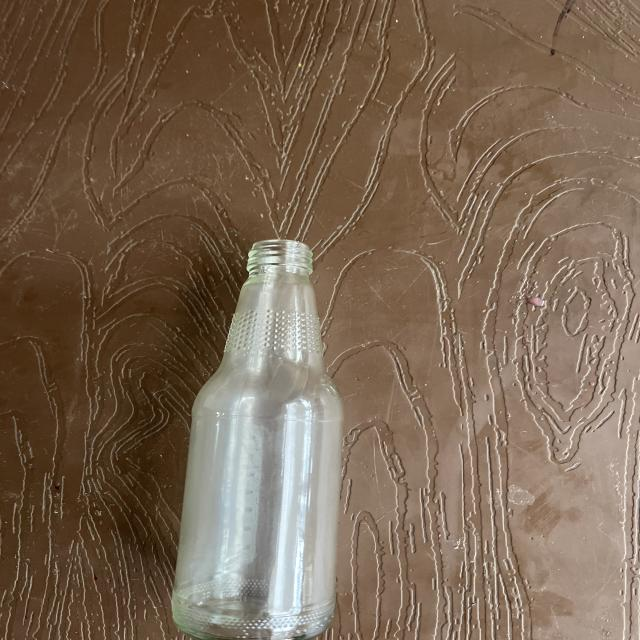Glass_Bottle: (173, 240, 342, 639)
